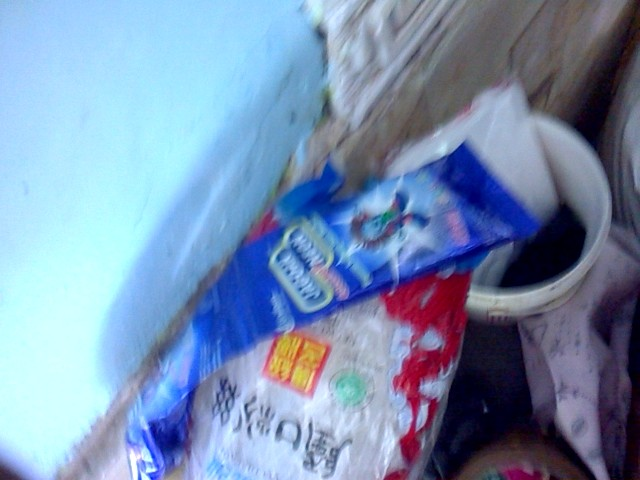jagoan neon: (226, 140, 544, 351)
